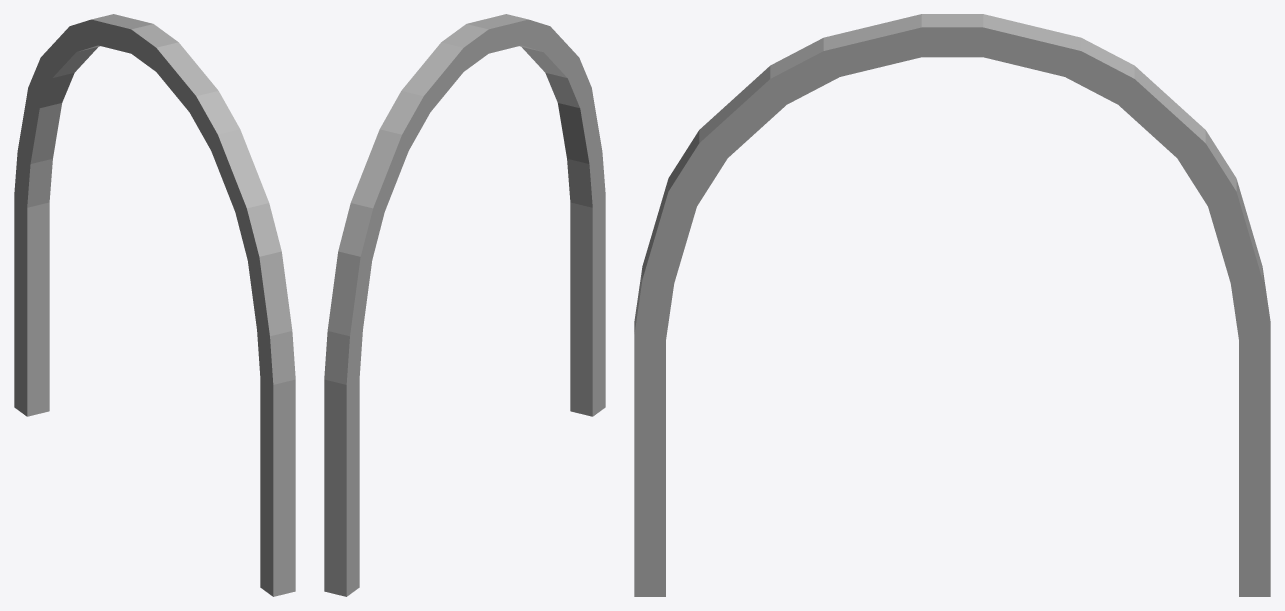
File: SpecialDelivery.fbx
3 views of the same model, side by side, from view 1: azimuth 30°, elevation 25°; view 2: azimuth 150°, elevation 25°; view 3: azimuth 270°, elevation 25° (orthographic). The views are drawn at different scales.
Parts seen in each view (by area): view 1: BikeRack; view 2: BikeRack; view 3: BikeRack.
Boxes of the visible parts, bbox=[...] form: BikeRack: bbox=[14, 14, 295, 596]; BikeRack: bbox=[324, 14, 605, 596]; BikeRack: bbox=[634, 14, 1270, 596].
Bounding box in the file's own units: 10 × 197 × 200.
